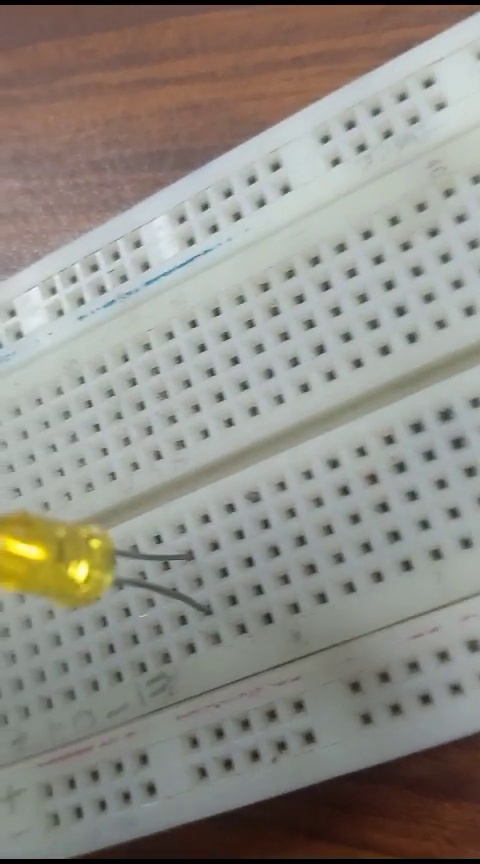LED: (3, 501, 216, 631)
